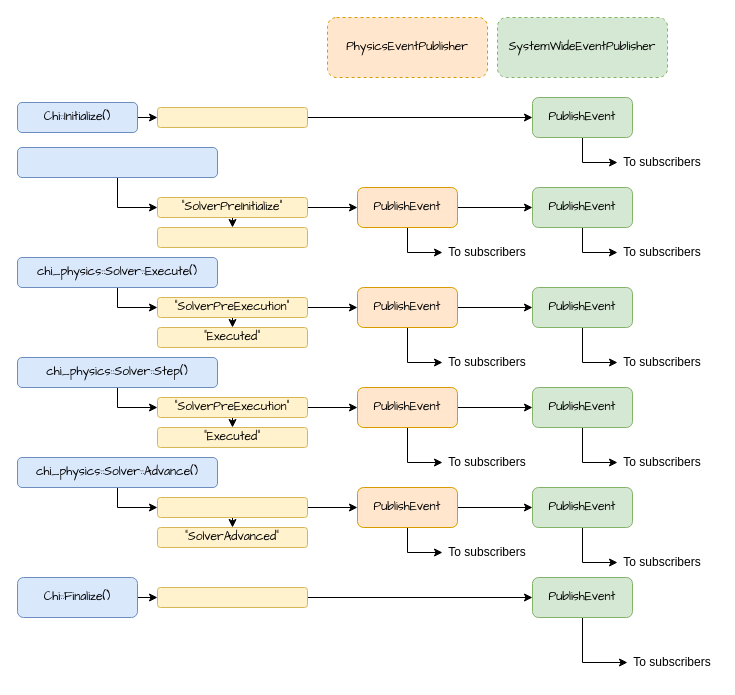
The diagram is 735 pixels wide and 695 high, and some of its shapes have lost their labels. Here are the shapes that lost their labels. From the top down, the centre of each, then its label:
pixel 232 117: "ProgramStart"
pixel 117 162: chi_physics::Solver::Initialize()
pixel 232 237: "SolverInitialized"
pixel 232 507: "SolverPreAdvance"
pixel 232 597: "ProgramExecuted"
